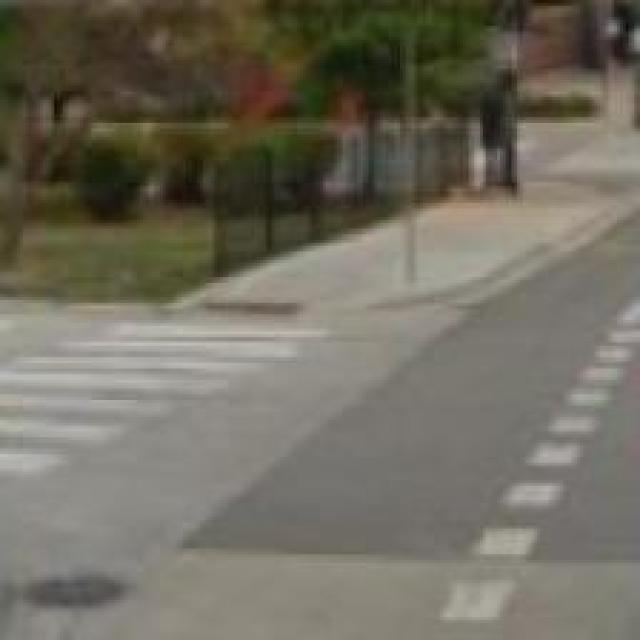walk-crossing: (0, 274, 317, 512)
